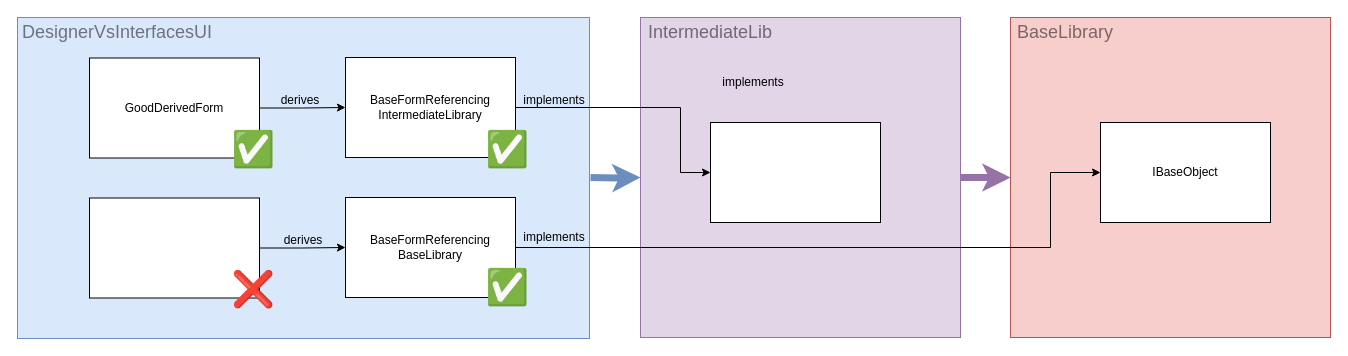
Some shapes in this 1348 by 356 pixel diagram are drawn without their labels. The box of each missing label's shape, as (x1, y1, x2, y2) in pixels:
BadDerivedForm: (88, 197, 260, 298)
IIntermediateObject: (710, 122, 880, 222)
